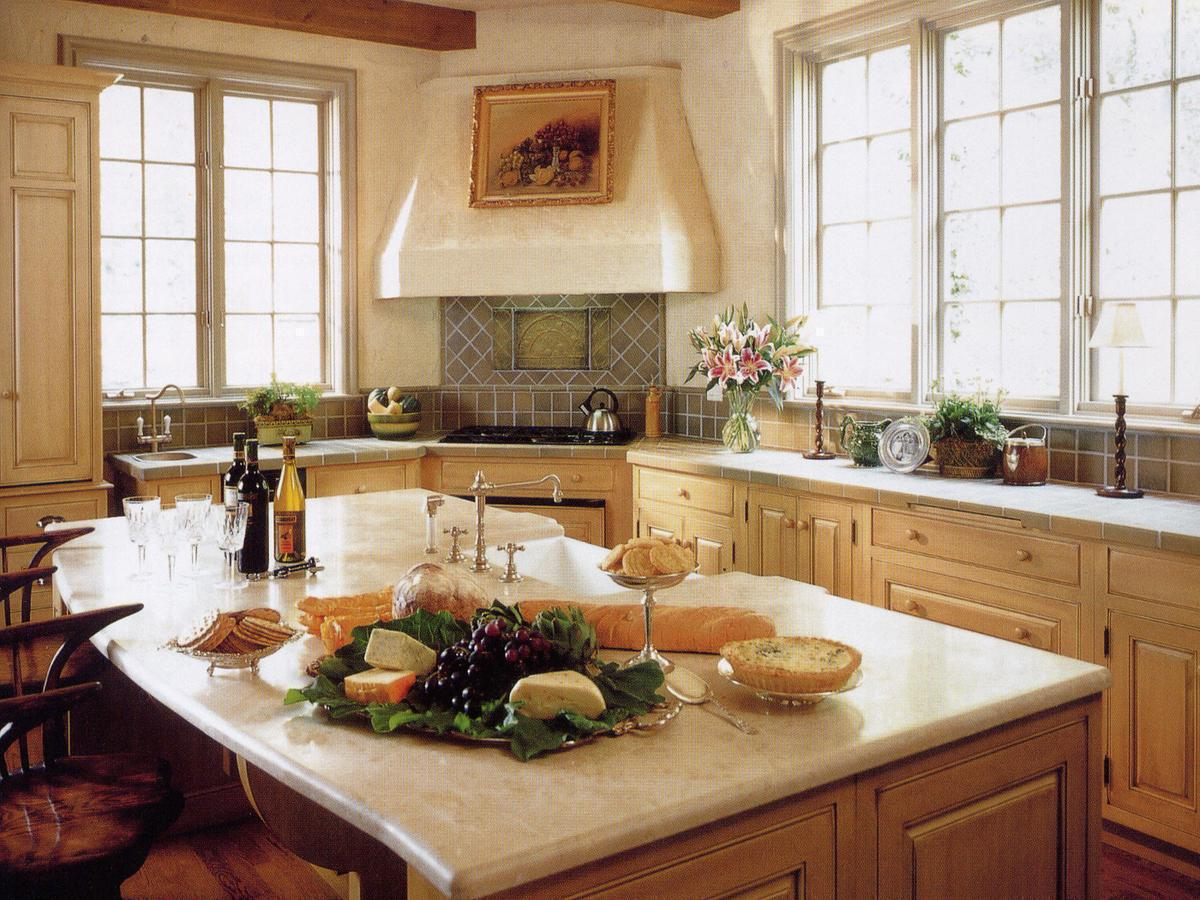Lavaplatos: (414, 452, 713, 607)
